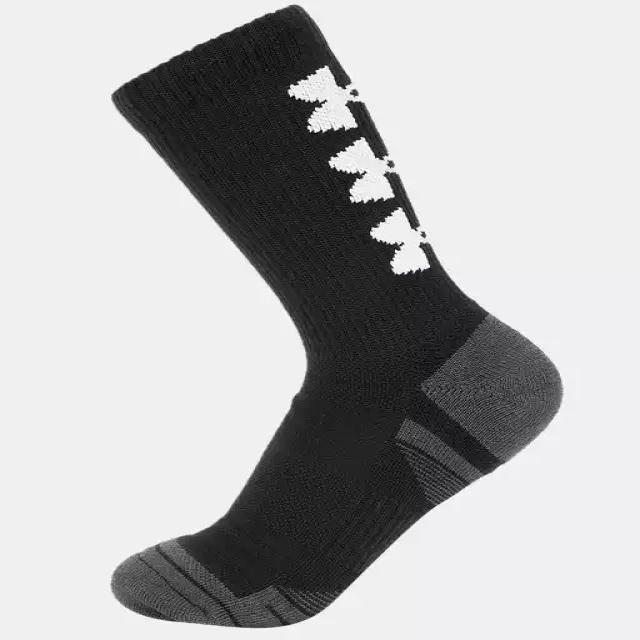sock: (107, 4, 564, 628)
